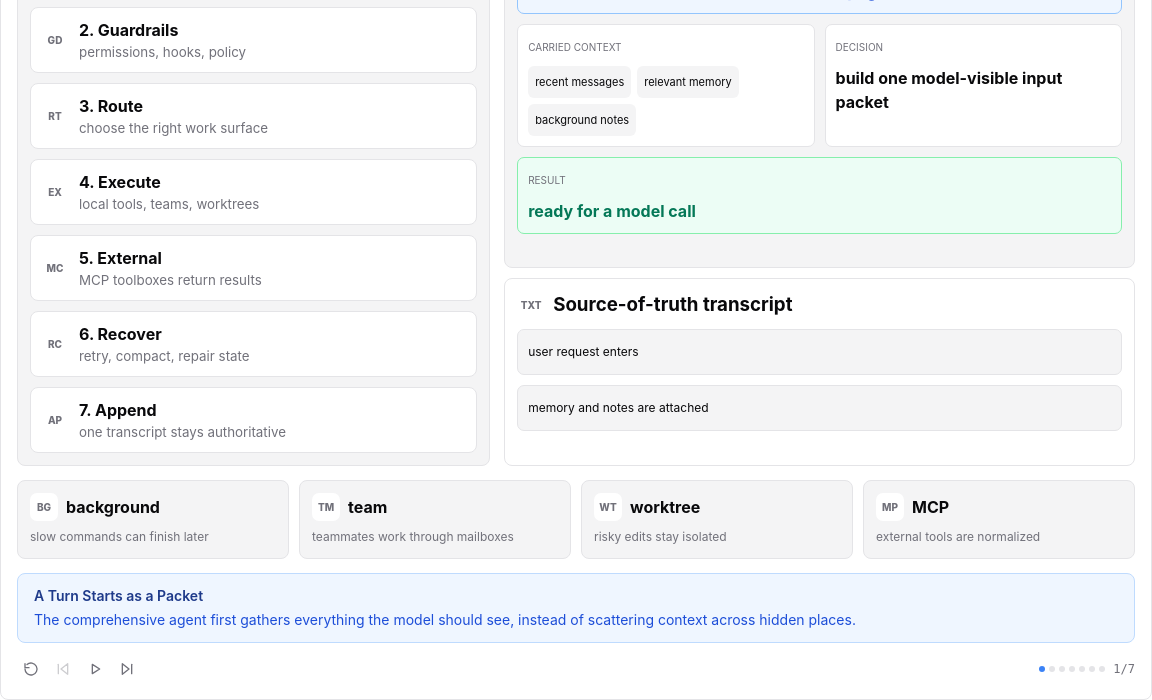
Test: S20Comprehensive › walks through the complete agent turn from intake to transcript append
The width and height of the screenshot is (1152, 700).
(page scrolled)
Click the button titled "Next step": (127, 669) [113,655,141,683]
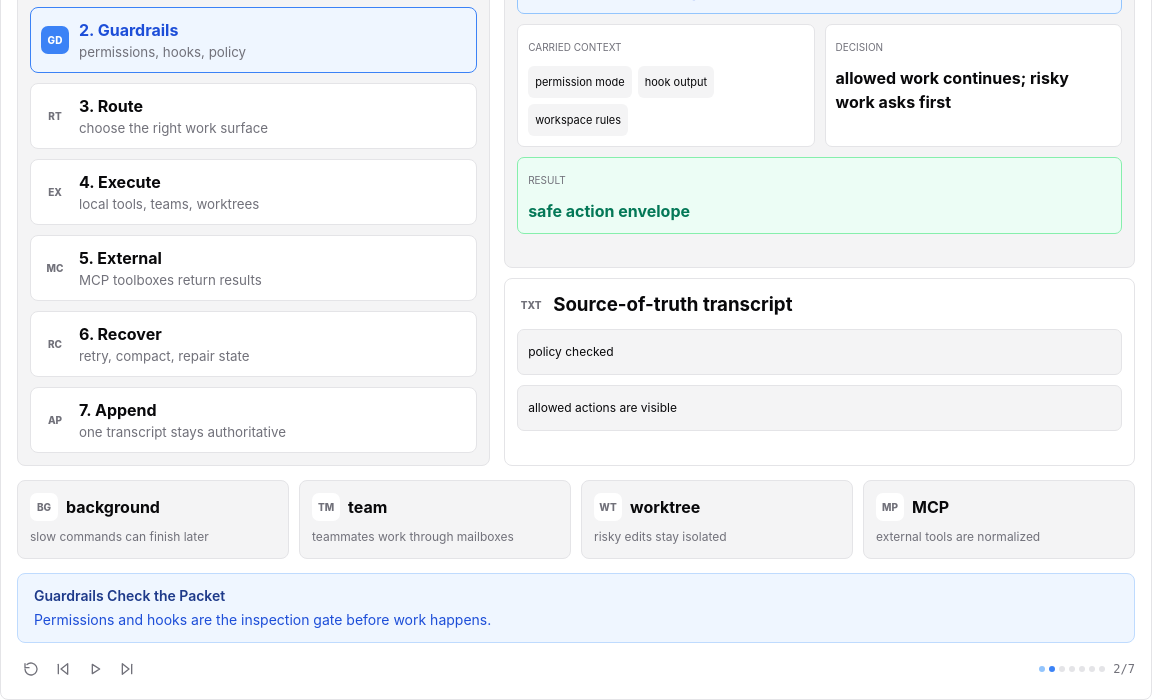
Click the button titled "Next step": (127, 669) [113,655,141,683]
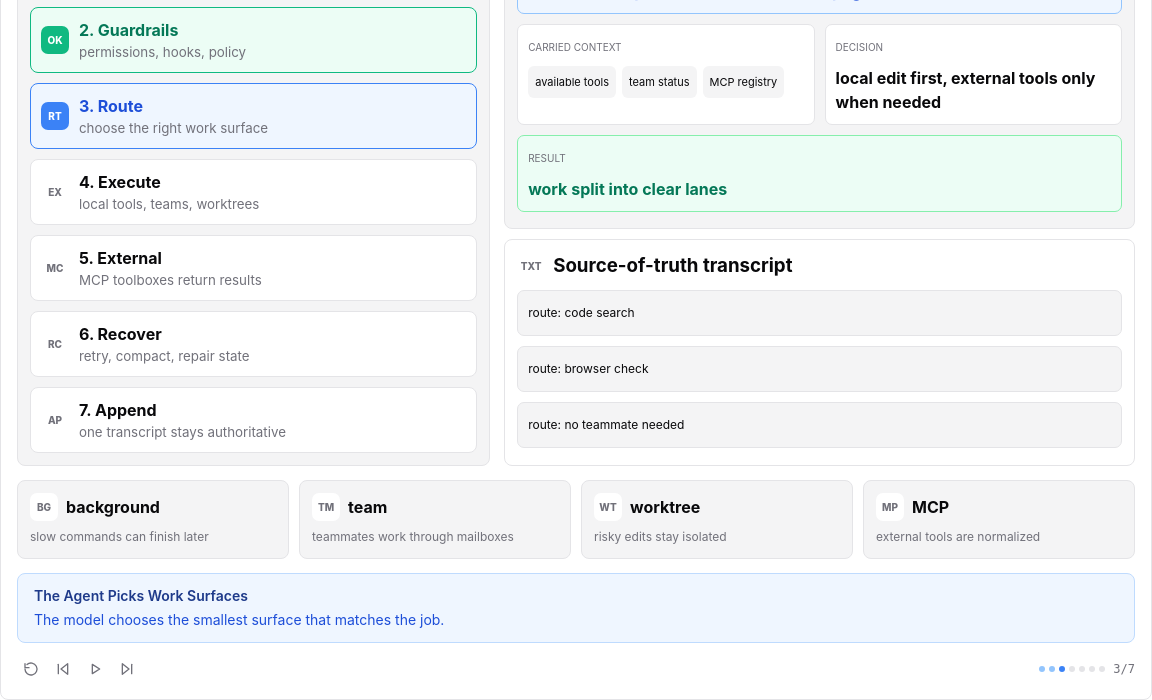
Click the button titled "Next step": (127, 669) [113,655,141,683]
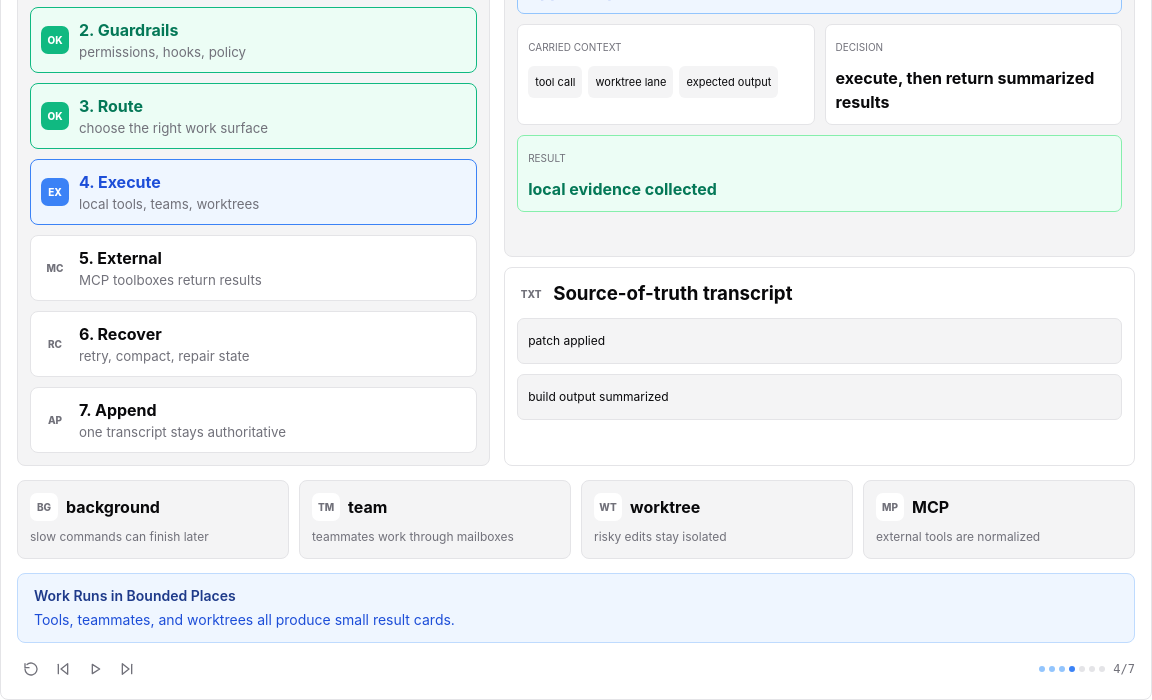
Click the button titled "Next step": (127, 669) [113,655,141,683]
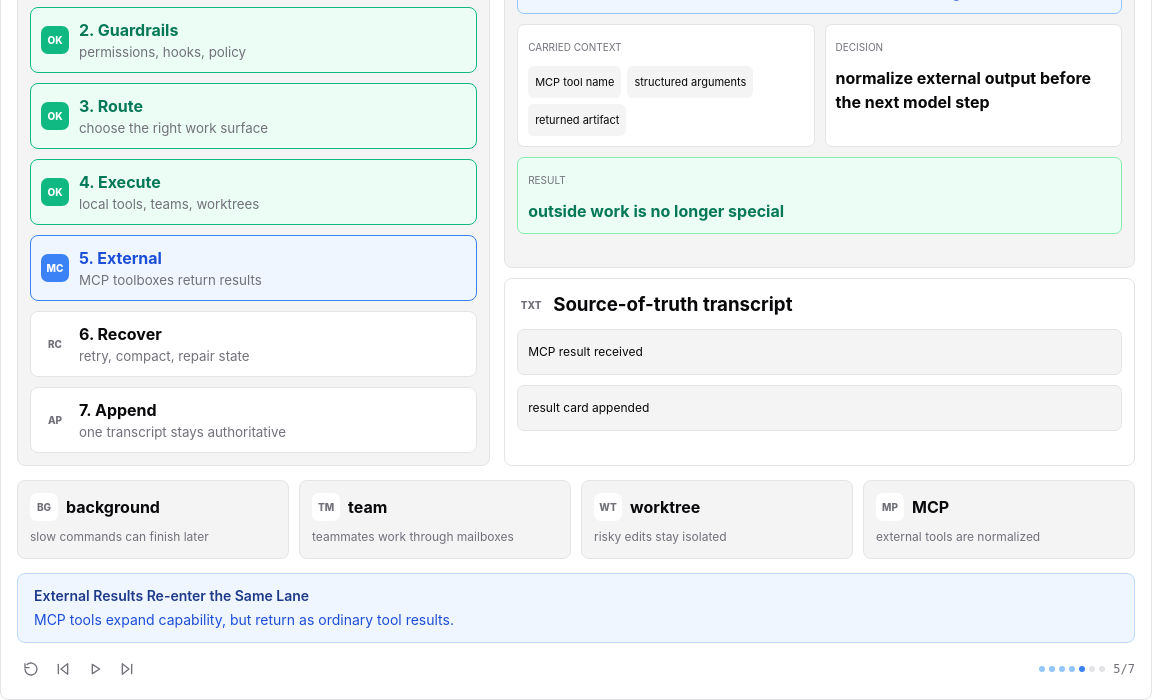
Expected: the element showing "MC 5. External MCP toolboxes return results" is shown, [30,235,477,301]
Expected: the text "External Results Re-enter the Same Lane" is shown, [34,587,309,604]
Expected: the text "MCP tool name" is shown, [528,66,621,98]
Click the button titled "Next step": (127, 669) [113,655,141,683]
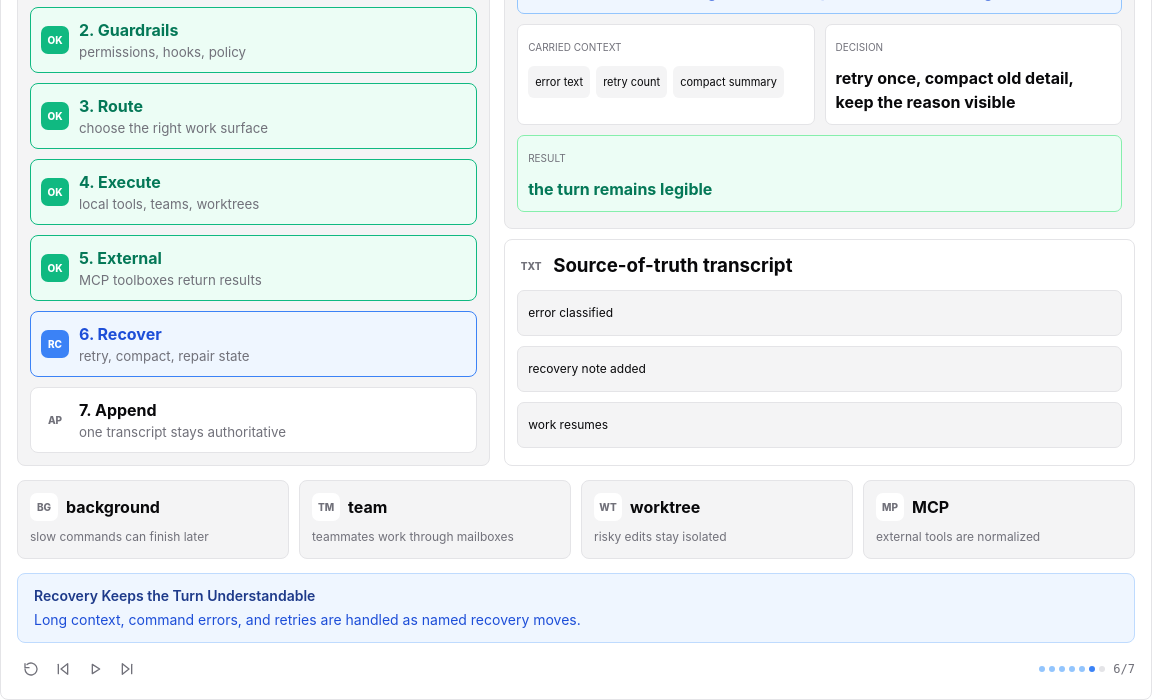
Click the button titled "Next step": (127, 669) [113,655,141,683]
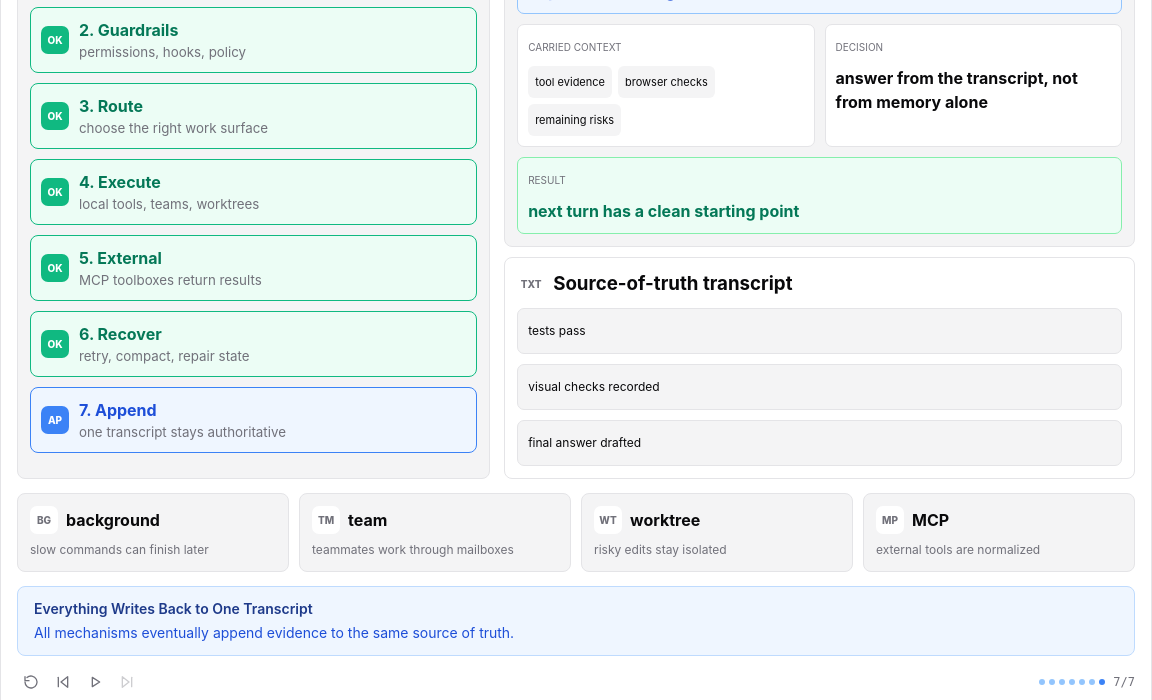
Expected: the text "Everything Writes Back to One Transcript" is shown, [34,600,313,617]
Expected: the text "final answer drafted" is shown, [517,420,1122,466]
